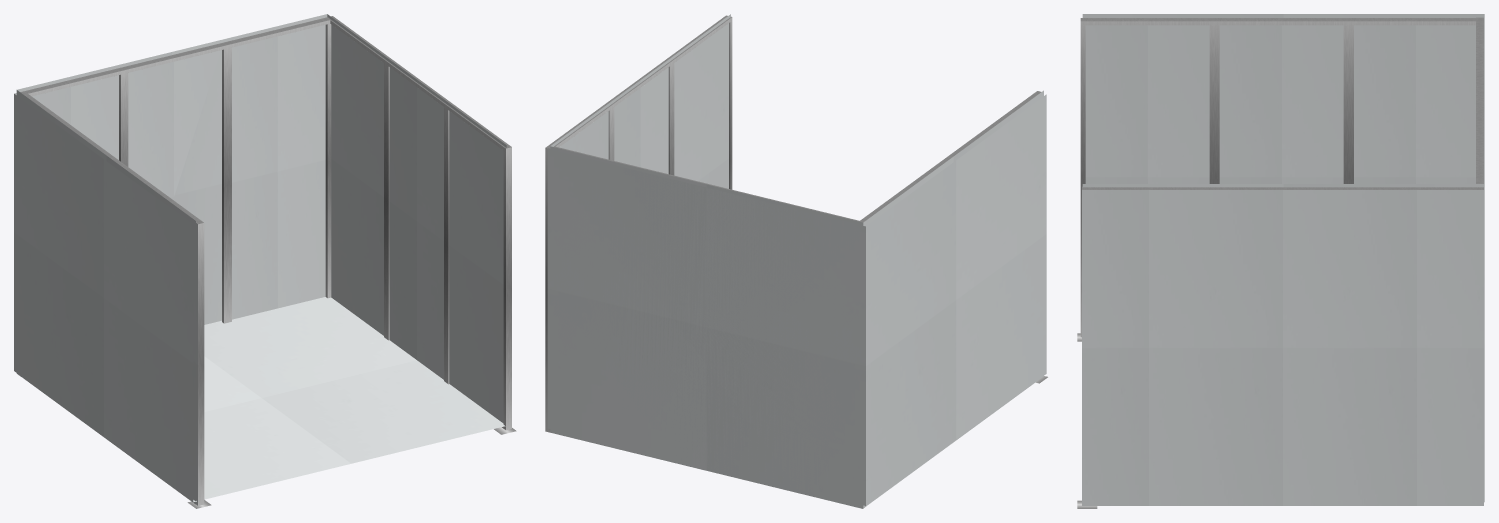
File: expo_booth.glb
3 views of the same model, side by side, from view 1: azimuth 30°, elevation 25°; view 2: azimuth 150°, elevation 25°; view 3: azimuth 270°, elevation 25° (orthographic). The views are drawn at different scales.
Parts seen in each view (by area): view 1: Object_5, Object_3; view 2: Object_5, Object_3; view 3: Object_5, Object_3.
Boxes of the visible parts, x1,y1,x2,y2 form: Object_5: (14, 14, 506, 505); Object_3: (20, 16, 516, 508); Object_5: (547, 14, 1046, 508); Object_3: (545, 15, 1047, 508); Object_5: (1082, 14, 1484, 505); Object_3: (1077, 17, 1483, 508).
Size of the model in its own units: 3.1 by 2.64 by 3.04.
Materials: 2 (2 with a texture image).
